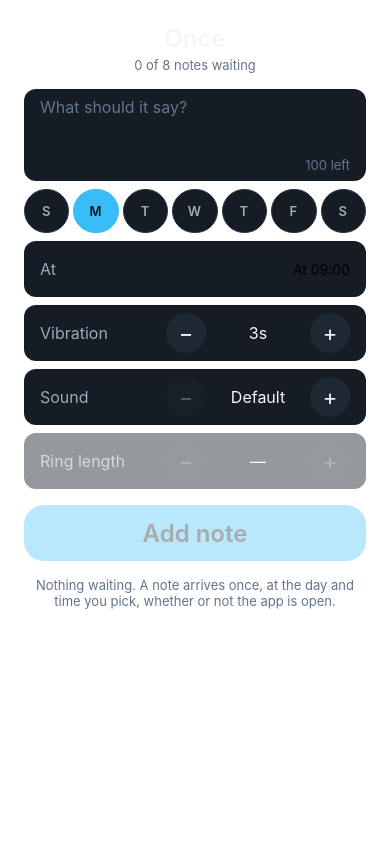
Test: OneOffsScreen › picks one day at a time, because a one-off happens once
Click the radio button named "Friday" at (294, 211), box top-left (271, 189), bottom-right (316, 233)
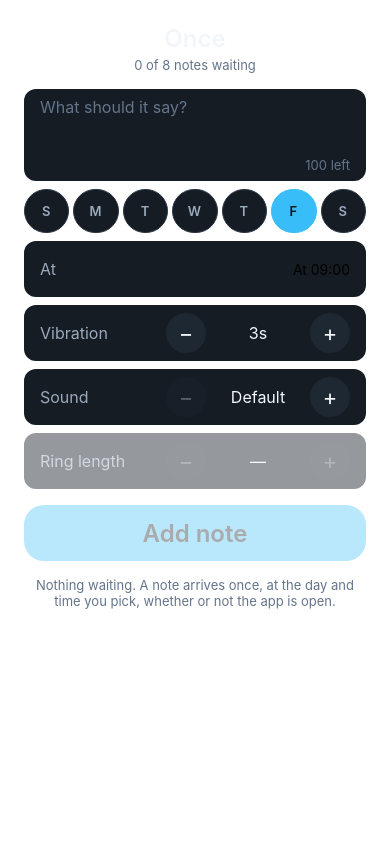
Click the radio button named "Sunday" at (47, 211), box top-left (24, 189), bottom-right (69, 233)
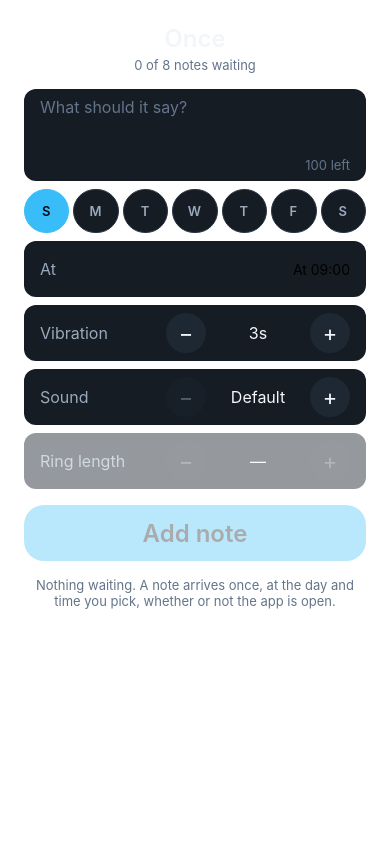
Type "Bins out" into the text box named "Note" at (195, 125), box top-left (40, 97), bottom-right (350, 153)
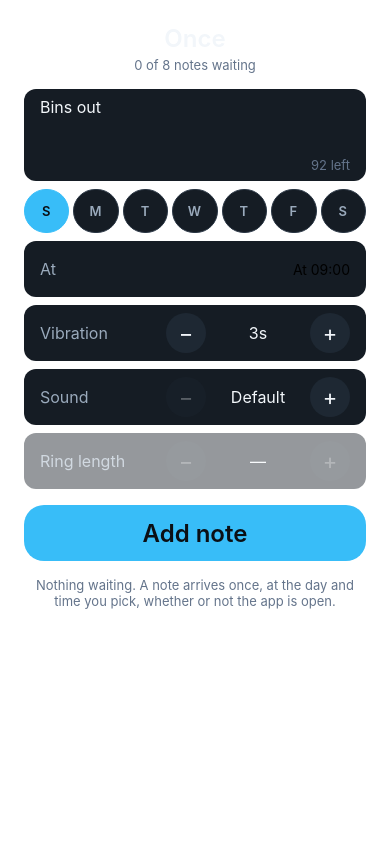
Click the button labelled "Add note" at (195, 533), box top-left (24, 505), bottom-right (366, 561)
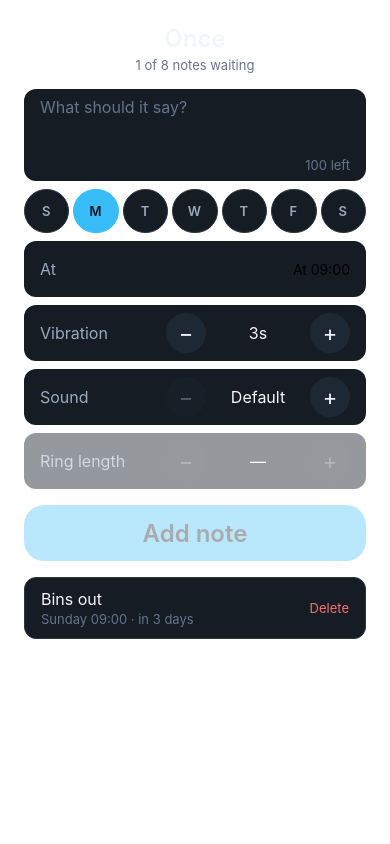
expect the text "Sunday 09:00 · in 3 days" is shown: met, box top-left (41, 611), bottom-right (194, 627)
